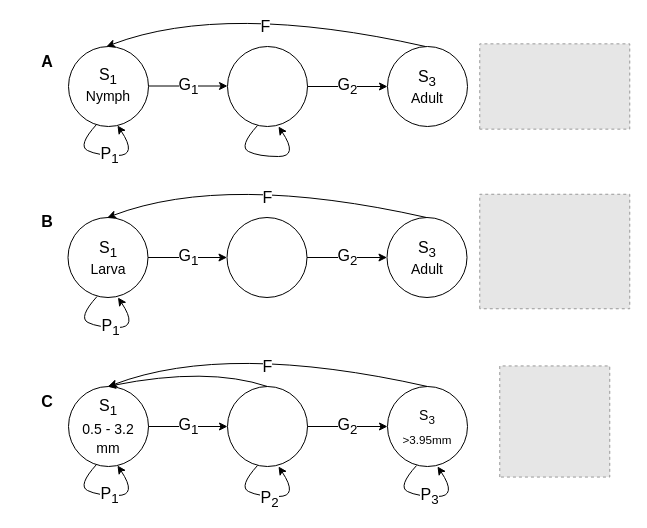
The diagram is 647 pixels wide and 528 high, and some of its shapes have lost their labels. Grey dashed boxes stand in for pictures. The centre of each missing label's shape, as x and y in pixels:
"S 2 3.21-3.95 mm" goes at point (267, 426).
"S 2 Pupa" goes at point (266, 257).
"S 2 Subimago" goes at point (267, 86).
